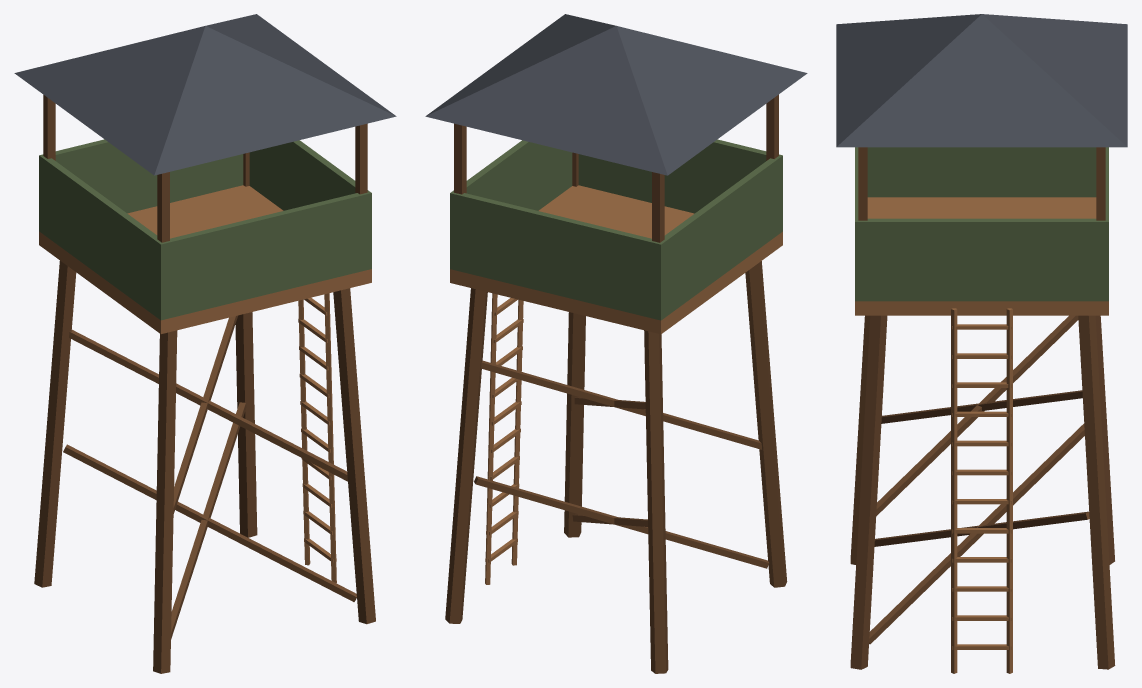
File: vakttorn.glb
3 renders of one model, left to right at view 1: azimuth 30°, elevation 25°; view 2: azimuth 150°, elevation 25°; view 3: azimuth 270°, elevation 25°, orthographic. The views are drawn at different scales.
Visible parts, largest first — view 1: vakttorn; view 2: vakttorn; view 3: vakttorn.
Boxes of the visible parts, bbox=[...] form: vakttorn: bbox=[14, 14, 396, 673]; vakttorn: bbox=[425, 14, 807, 673]; vakttorn: bbox=[836, 14, 1127, 673].
Size of the model in its own units: 3.68 by 8.36 by 3.68.
